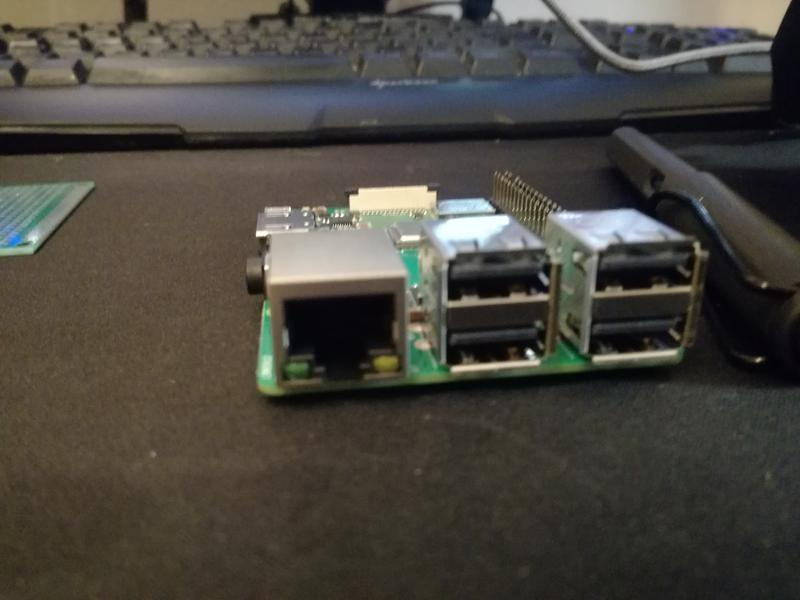Raspberry_Pi_3: (237, 168, 704, 403)
